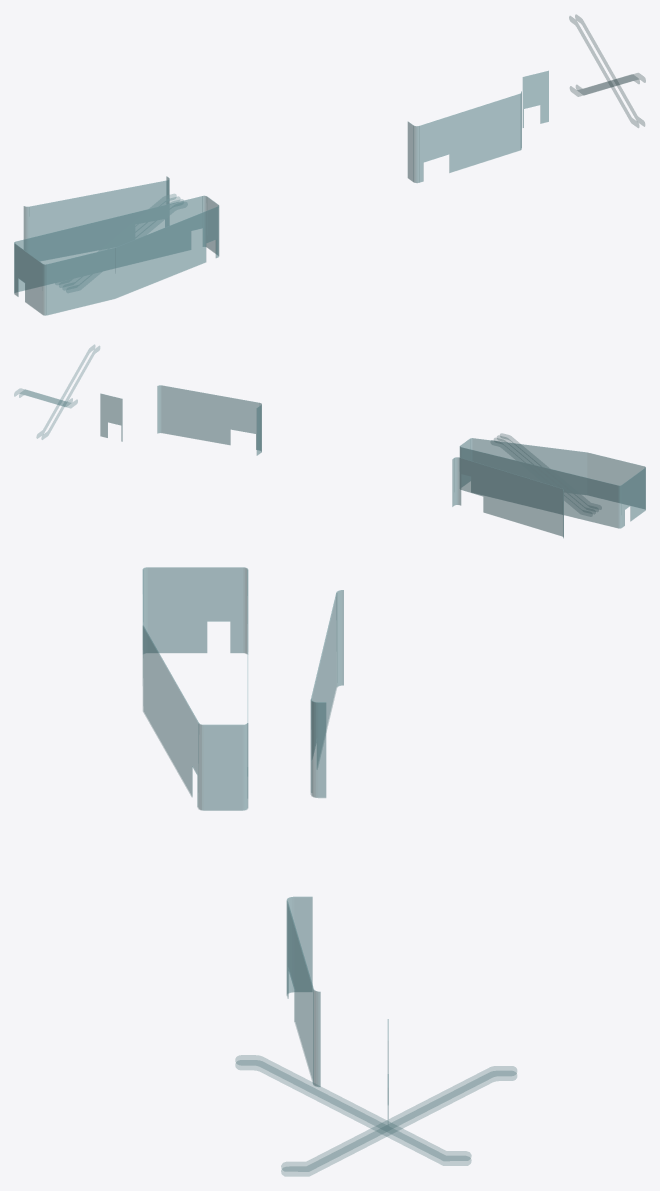
The model's file is M_XA_N_B1A_glass.obj.
3 renders of one model, top to bottom at view 1: azimuth 30°, elevation 25°; view 2: azimuth 150°, elevation 25°; view 3: azimuth 270°, elevation 25°, orthographic. The views are drawn at different scales.
Parts seen in each view (by area): view 1: M_XA_N_B1A_glass; view 2: M_XA_N_B1A_glass; view 3: M_XA_N_B1A_glass.
Boxes of the visible parts, left/top/right/bottom form: M_XA_N_B1A_glass: left=14, top=14, right=645, bottom=315; M_XA_N_B1A_glass: left=14, top=344, right=645, bottom=538; M_XA_N_B1A_glass: left=142, top=567, right=516, bottom=1176.
Size of the model in its own units: 1553 by 149 by 467.
